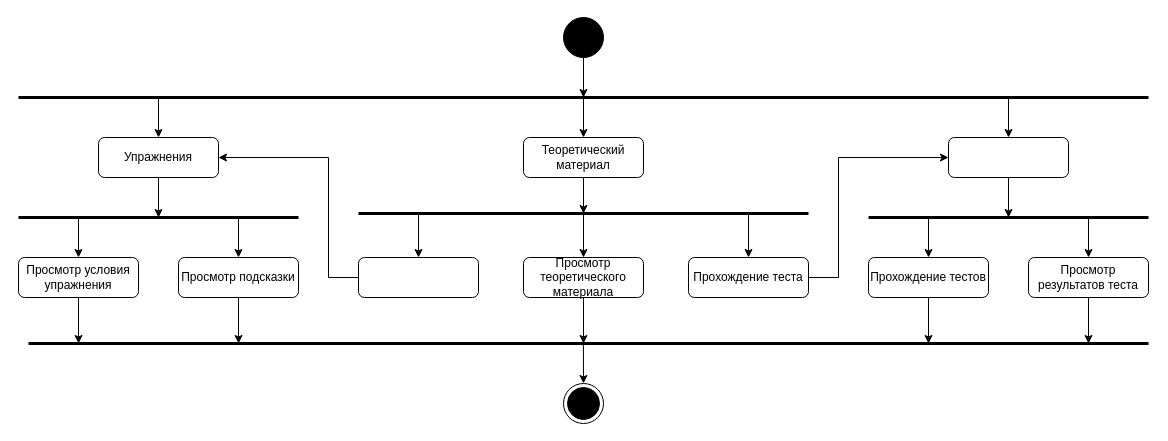
This 1168x441 diagram has some shape labels left out. Each missing label, with the centre of its shape:
Просмотр упражнений: (418,277)
Тесты: (1008,157)
